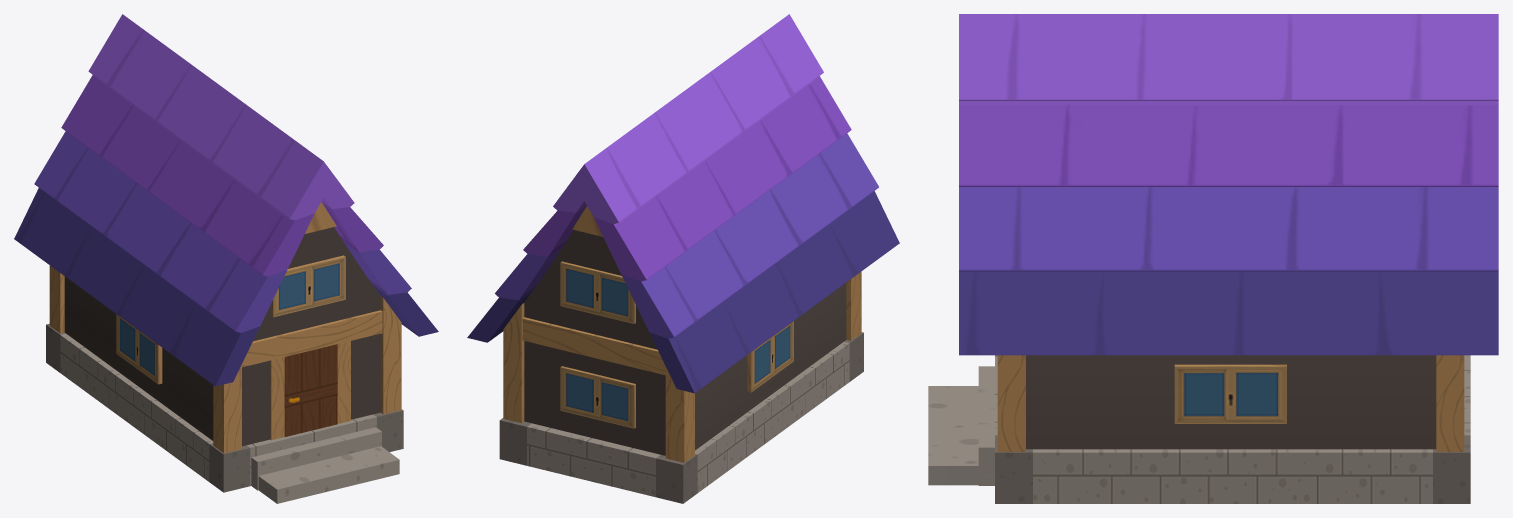
The model's file is building_spell_lv2.FBX.
3 views of the same model, side by side, from view 1: azimuth 30°, elevation 25°; view 2: azimuth 150°, elevation 25°; view 3: azimuth 270°, elevation 25° (orthographic). The views are drawn at different scales.
Parts seen in each view (by area): view 1: building_spell_roof_lv2, building_spell_lv2, building_spell_under_lv2, building_spell_main_lv2; view 2: building_spell_roof_lv2, building_spell_main_lv2, building_spell_lv2, building_spell_under_lv2; view 3: building_spell_roof_lv2, building_spell_under_lv2, building_spell_main_lv2, building_spell_lv2.
Boxes of the visible parts, x1,y1,x2,y2 form: building_spell_roof_lv2: [14, 14, 438, 386]; building_spell_lv2: [49, 202, 401, 453]; building_spell_under_lv2: [46, 323, 403, 503]; building_spell_main_lv2: [64, 227, 380, 446]; building_spell_roof_lv2: [467, 14, 899, 393]; building_spell_main_lv2: [524, 230, 846, 455]; building_spell_lv2: [503, 206, 861, 462]; building_spell_under_lv2: [499, 332, 863, 503]; building_spell_roof_lv2: [959, 14, 1498, 355]; building_spell_under_lv2: [928, 355, 1470, 503]; building_spell_main_lv2: [1026, 355, 1436, 449]; building_spell_lv2: [997, 355, 1464, 451].
Size of the model in its own units: 246 by 337 by 406.
